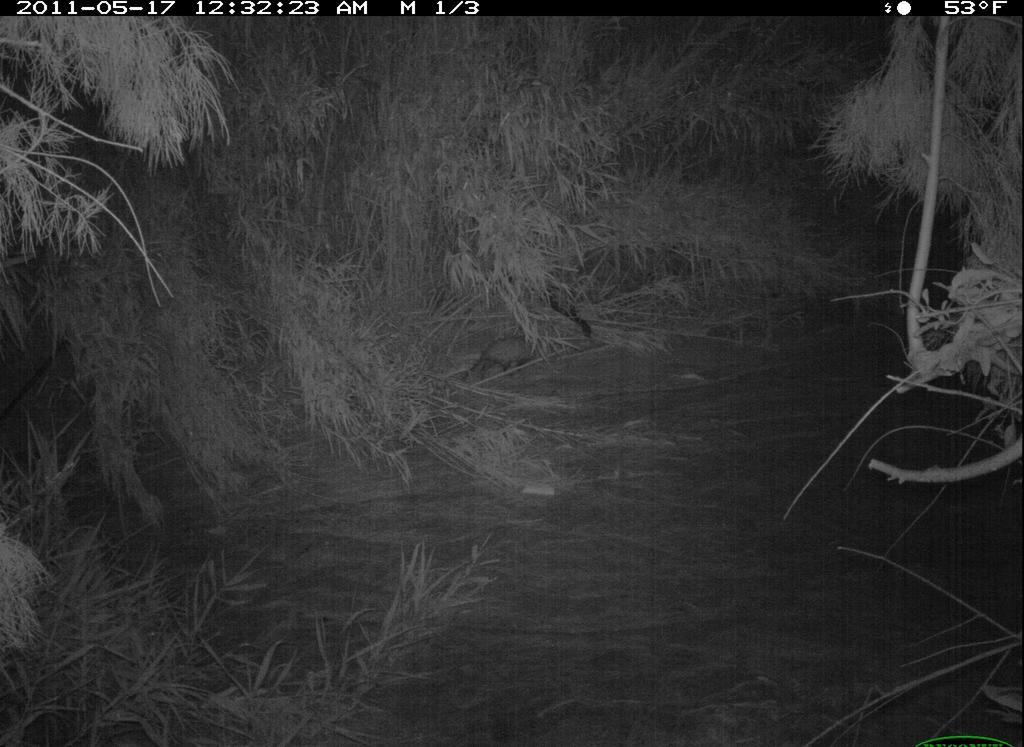opossum: (461, 333, 556, 385)
